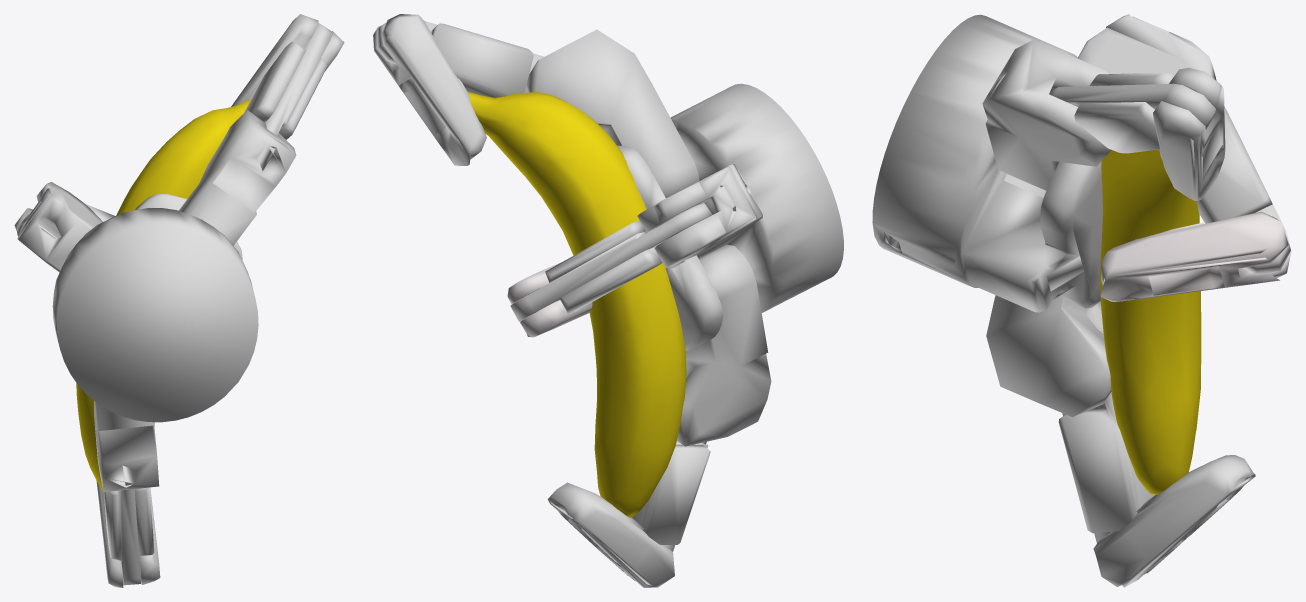
Rendered from barret_banana.glb.
The picture shows the model from 3 angles, left to right: view 1: azimuth 30°, elevation 25°; view 2: azimuth 150°, elevation 25°; view 3: azimuth 270°, elevation 25°; orthographic projection. The views are drawn at different scales.
Parts seen in each view (by area): view 1: body_1, body_4, obj, body_7, body_13, body_16, body_10, body_19; view 2: obj, body_1, body_4, body_13, body_10, body_22, body_19, body_7, body_16, body_25; view 3: body_1, obj, body_4, body_25, body_13, body_19, body_16, body_7, body_10, body_22.
Part boxes in pixels (x1,y1,x2,y2): body_1: (14, 182, 258, 422); body_4: (179, 110, 296, 245); obj: (76, 99, 251, 492); body_7: (243, 23, 332, 139); body_13: (94, 401, 159, 492); body_16: (104, 487, 154, 585); body_10: (231, 14, 344, 106); body_19: (96, 480, 160, 587); obj: (467, 91, 686, 517); body_1: (617, 83, 843, 350); body_4: (526, 29, 699, 198); body_13: (677, 244, 771, 446); body_10: (373, 14, 486, 165); body_22: (510, 203, 712, 321); body_19: (547, 482, 674, 587); body_7: (376, 21, 544, 97); body_16: (623, 375, 710, 580); body_25: (507, 262, 592, 337); body_1: (872, 14, 1216, 312); obj: (1099, 149, 1201, 494); body_4: (982, 39, 1111, 190); body_25: (1100, 211, 1291, 301); body_13: (986, 295, 1111, 416); body_19: (1093, 455, 1255, 587); body_16: (1058, 330, 1155, 574); body_7: (1050, 72, 1215, 153); body_10: (1153, 67, 1225, 200); body_22: (1196, 106, 1290, 275).
Size of the model in its own units: 0.00182 by 0.00243 by 0.00146.
